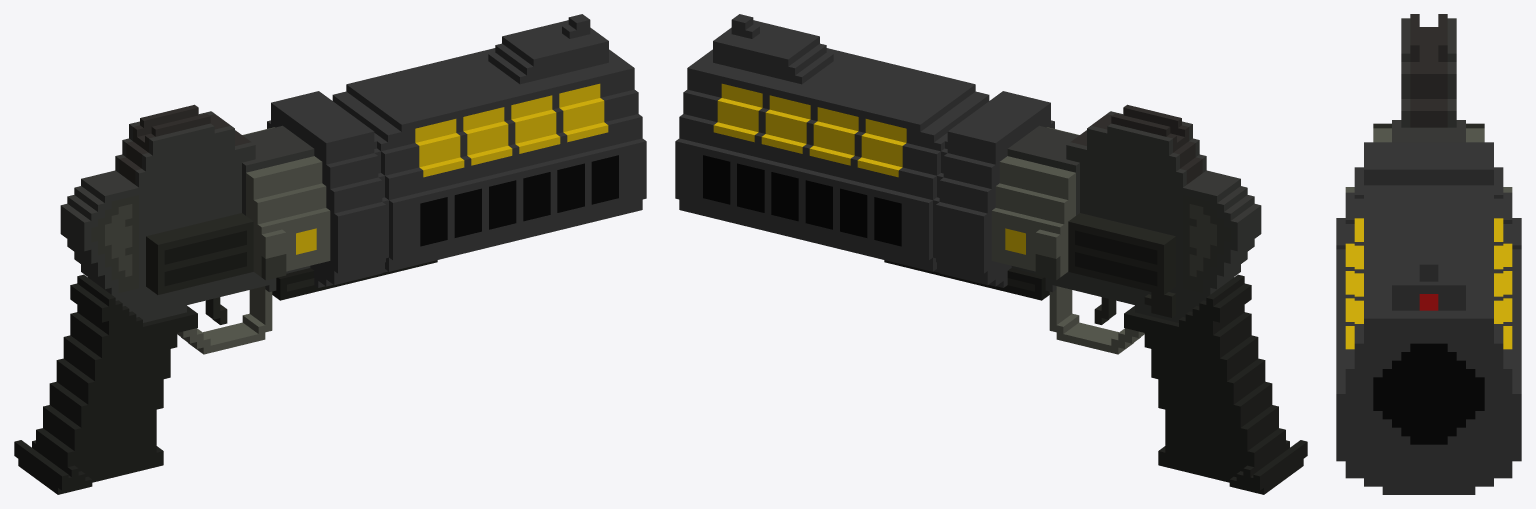
File: Blaster.fbx
3 renders of one model, left to right at view 1: azimuth 30°, elevation 25°; view 2: azimuth 150°, elevation 25°; view 3: azimuth 270°, elevation 25°, orthographic. The views are drawn at different scales.
Visible parts, largest first — view 1: Gun_Backup; view 2: Gun_Backup; view 3: Gun_Backup.
Part boxes in pixels (left/top/right/bottom): Gun_Backup: left=14, top=14, right=646, bottom=494; Gun_Backup: left=675, top=14, right=1307, bottom=494; Gun_Backup: left=1336, top=14, right=1521, bottom=494.
Bounding box in the file's own units: 830 × 460 × 200.
